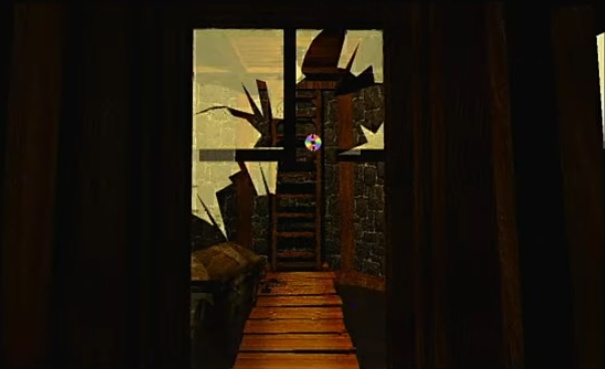Waiting: (302, 131, 323, 152)
